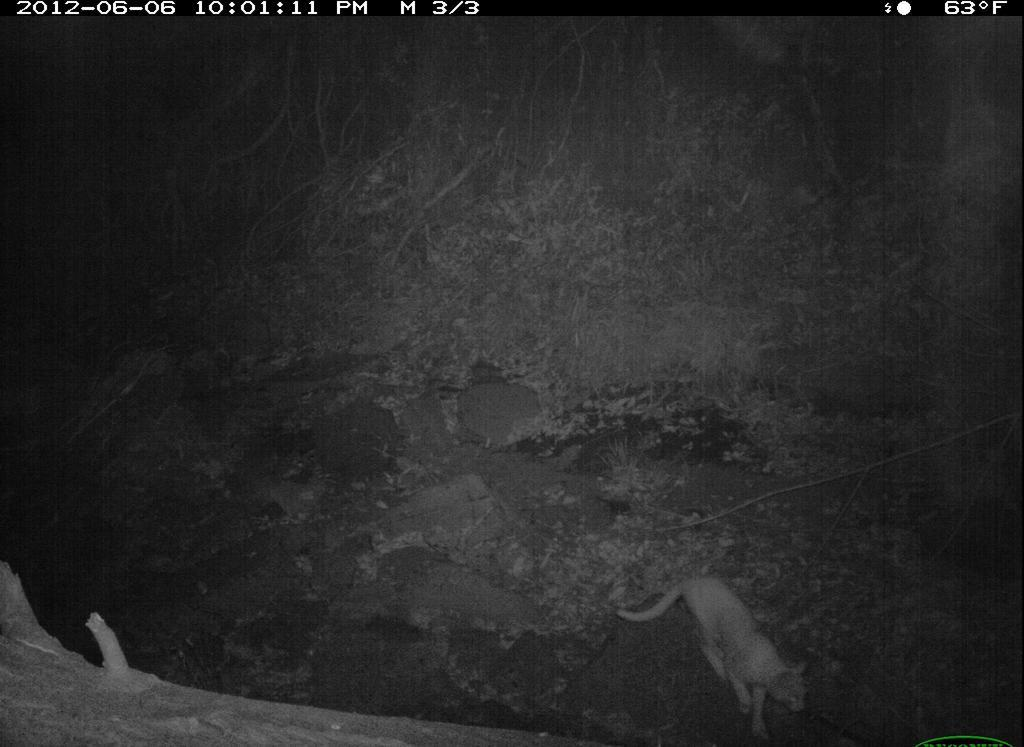cat: (616, 571, 812, 734)
